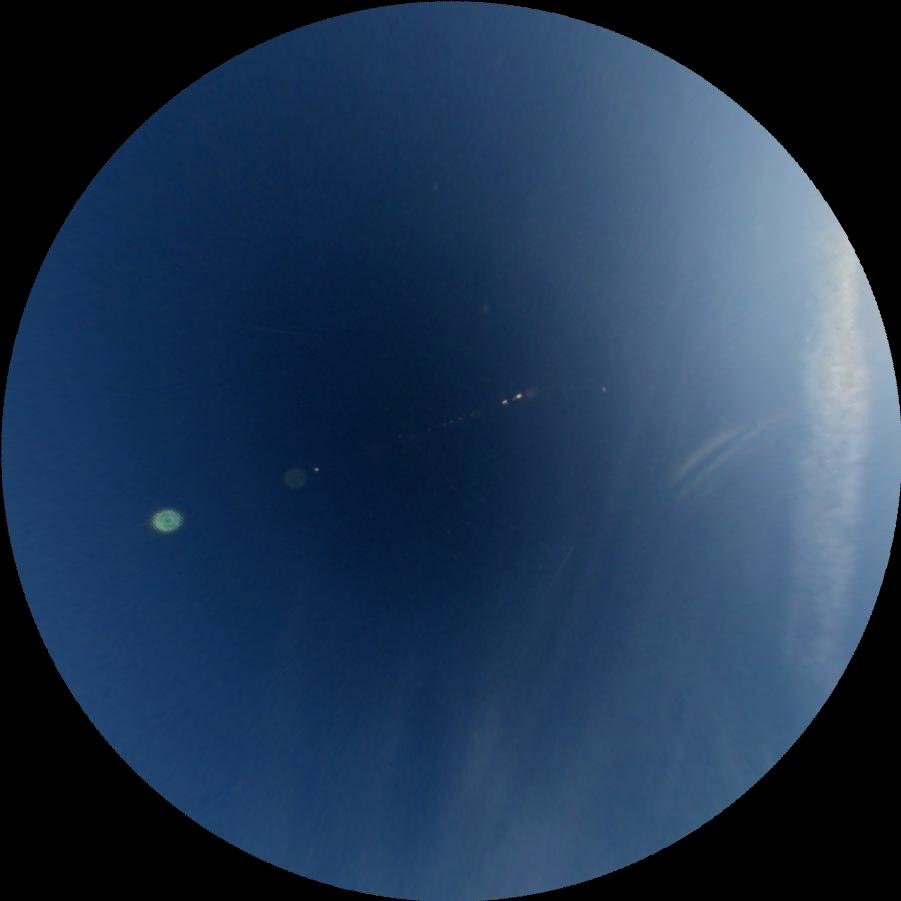contrail veryold: (781, 212, 880, 707)
contrail young: (552, 543, 574, 577), (256, 323, 304, 336)
parasite: (664, 414, 749, 482)
